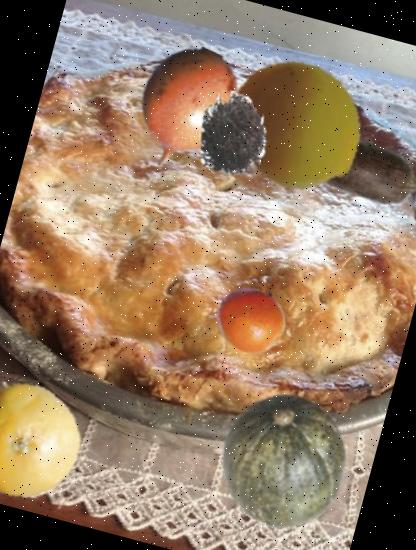Granadilla: (108, 31, 262, 186)
Grapefruit: (0, 366, 95, 512)
Melon: (202, 378, 369, 545)
Nut: (302, 104, 416, 240)
Peach: (213, 40, 384, 210)
Rambutan: (184, 82, 287, 185)
Tangelo: (208, 276, 295, 363)
